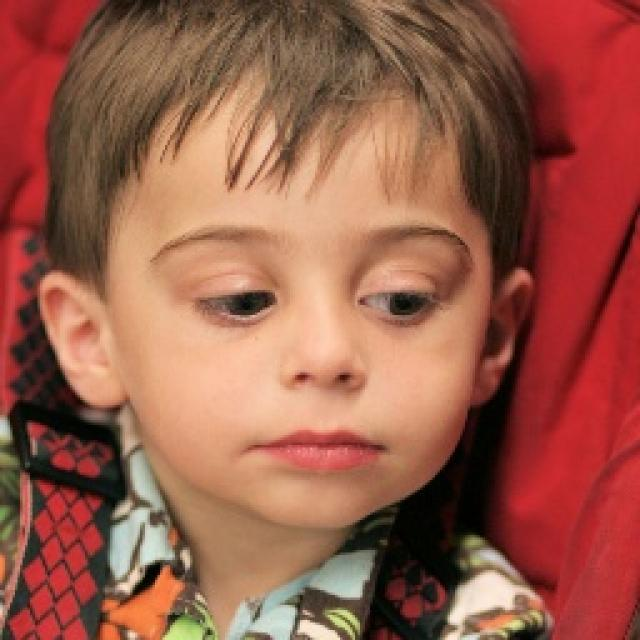earlobe: (40, 272, 128, 406), (471, 266, 534, 405)
